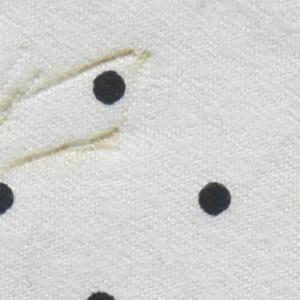Oil Stain: (1, 44, 158, 125), (1, 121, 131, 177)
